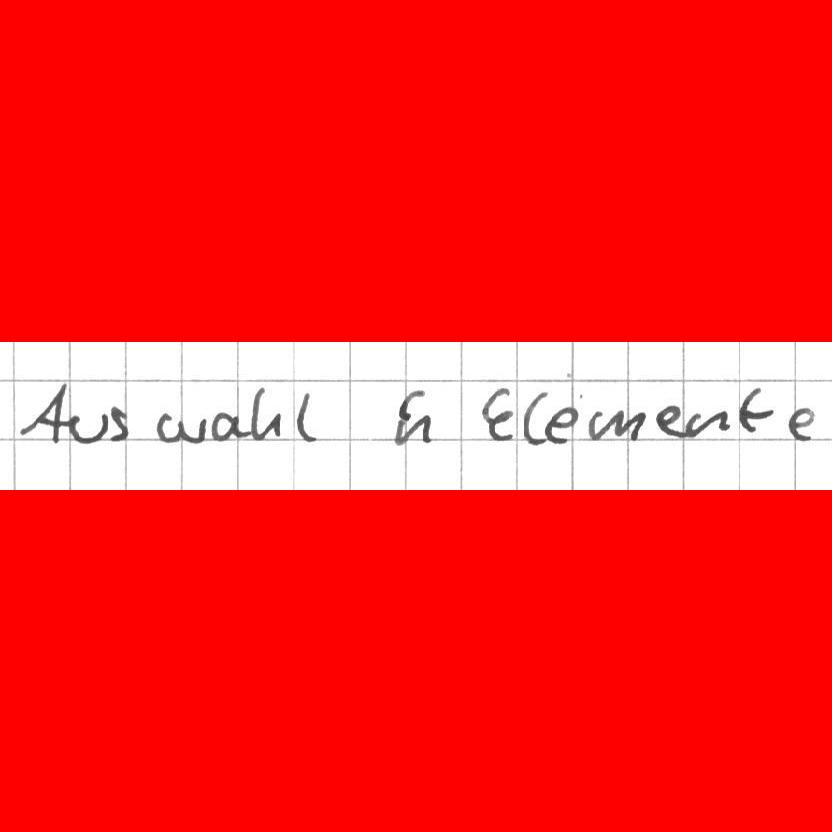Char: (14, 379, 68, 448), (586, 404, 647, 443), (480, 383, 518, 441), (737, 385, 778, 433), (250, 385, 284, 441), (683, 406, 730, 443), (152, 412, 208, 443), (519, 387, 547, 445), (65, 409, 109, 445), (543, 403, 579, 446), (295, 391, 320, 445), (651, 403, 685, 442), (211, 409, 250, 442), (785, 405, 818, 441), (110, 401, 133, 444)
